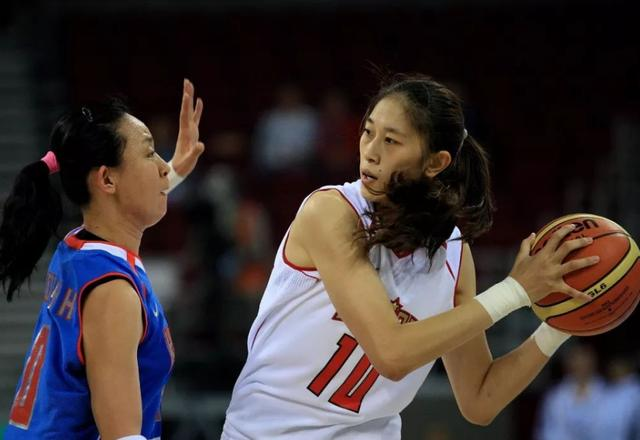ball: (522, 213, 640, 336)
